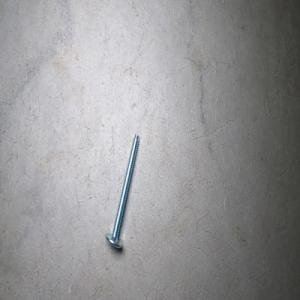Bolt: (104, 132, 139, 249)
